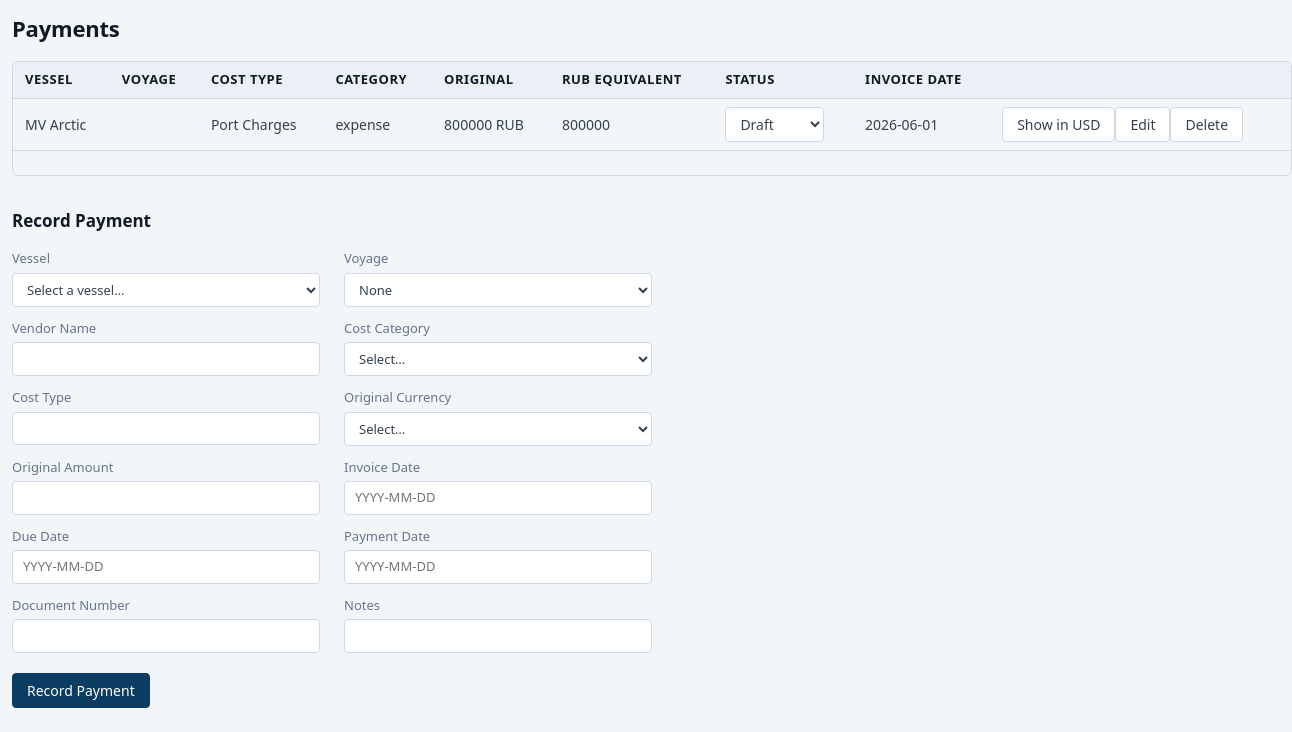
Test case: PaymentsPage › lets the operator delete a payment after confirming, and removes it from the list
Expected: the text "MV Arctic" is shown, x1=13 y1=98 x2=110 y2=150
Click the button "Delete" at (1207,124), box x1=1170 y1=106 x2=1243 y2=142
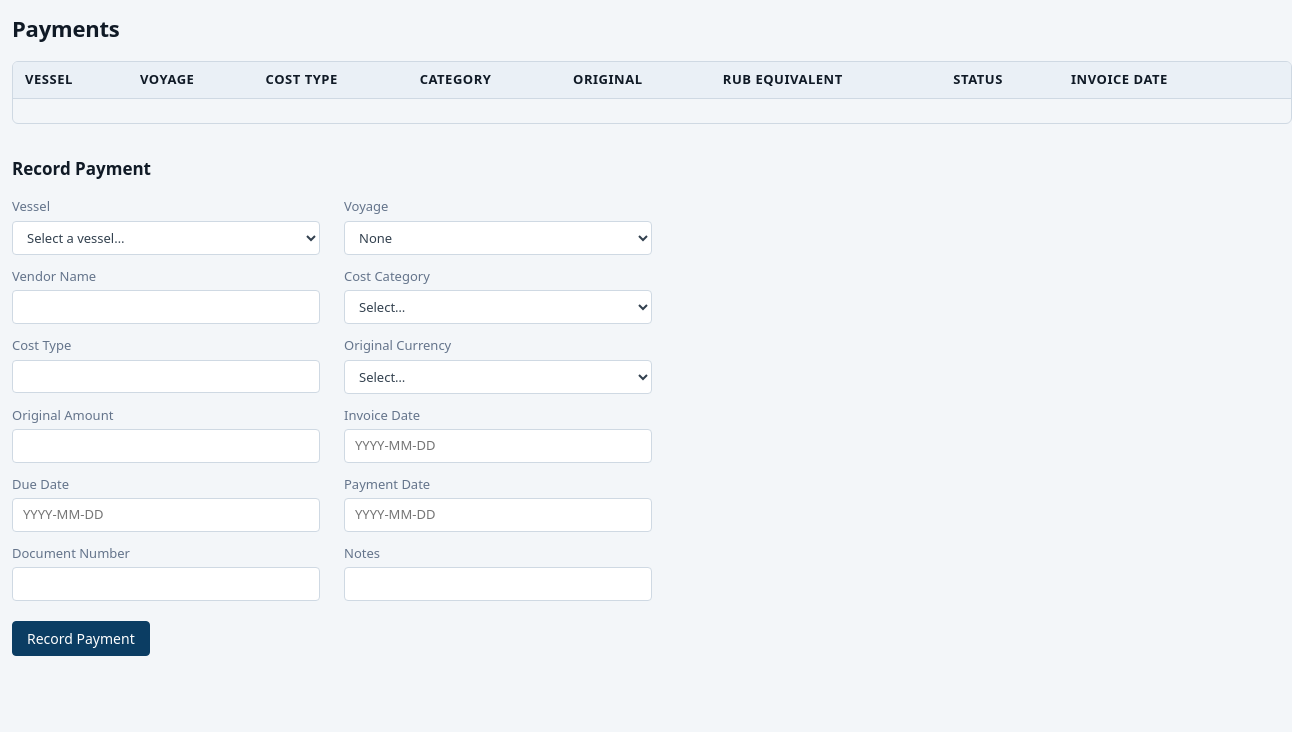
Expected: the text "Port Charges" is gone
